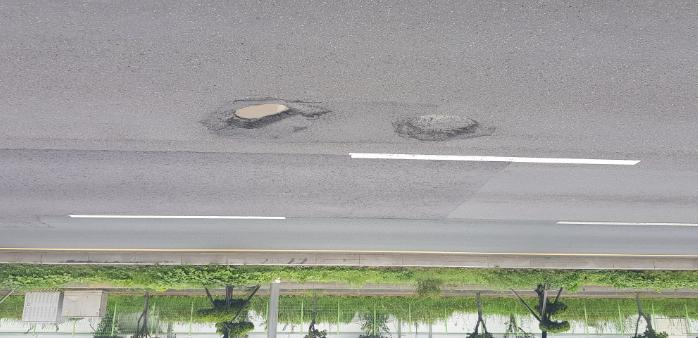pothole: (224, 85, 320, 149), (393, 103, 494, 151)
